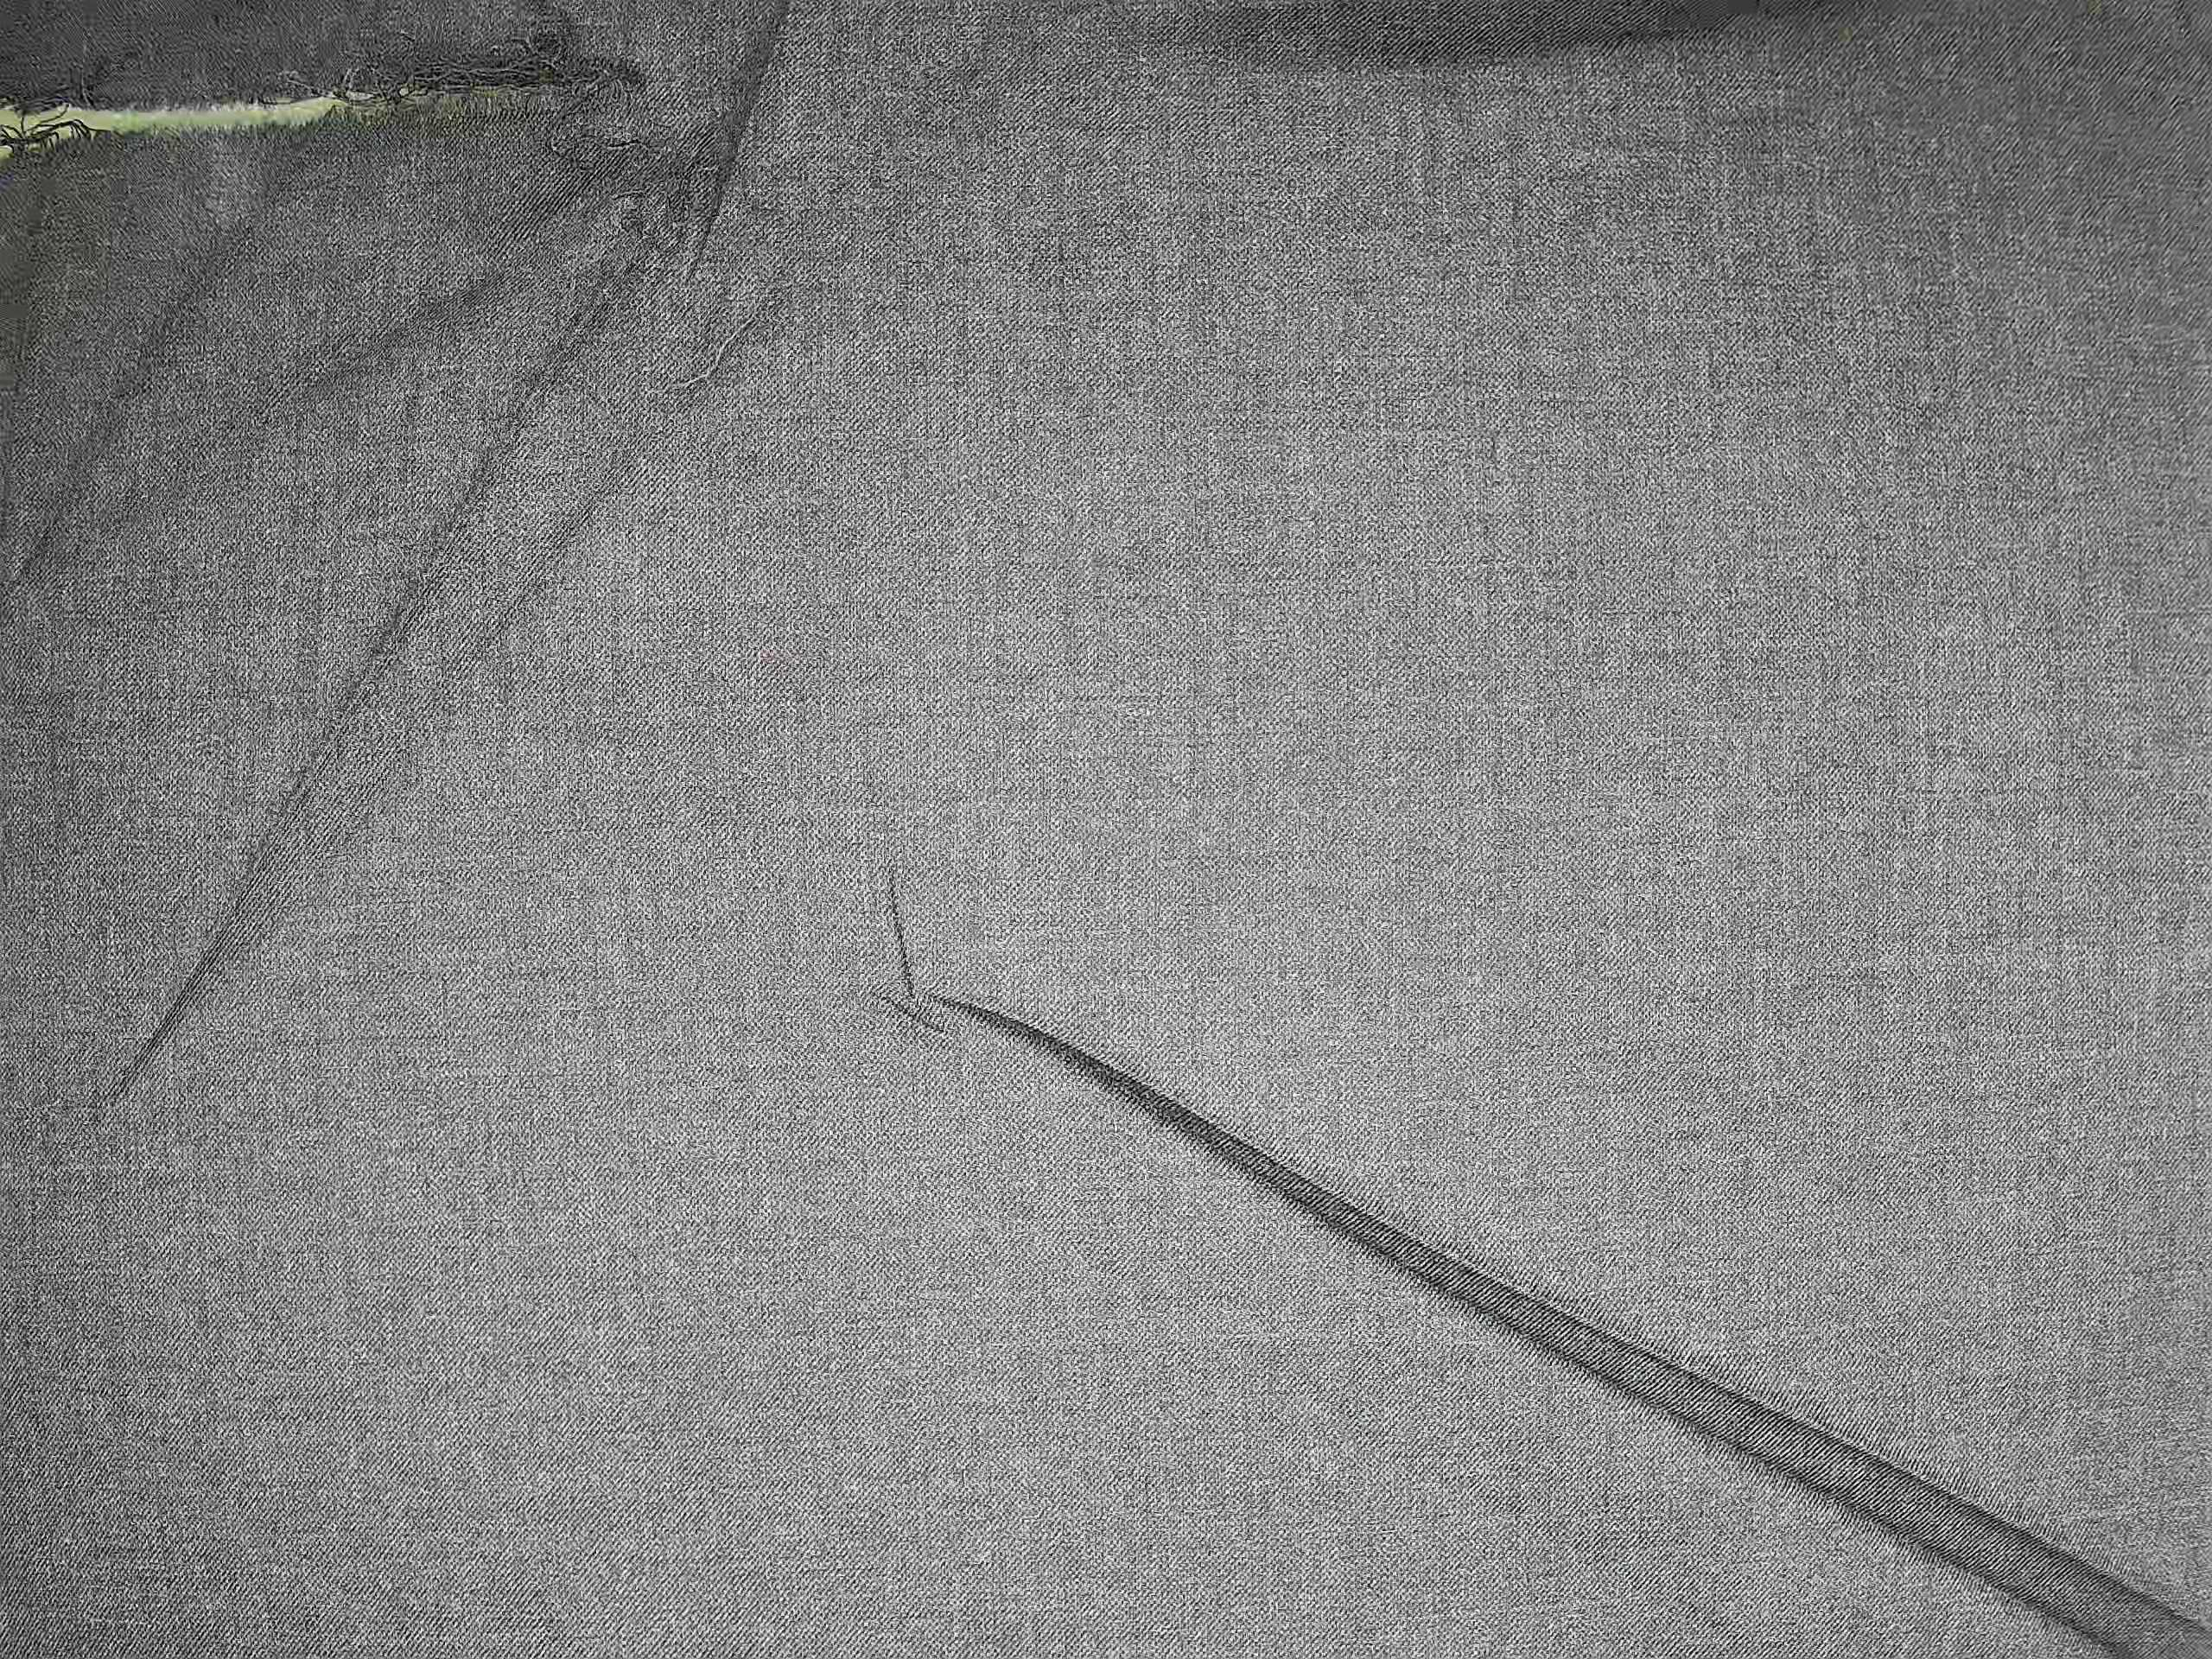puncture-hole: (0, 33, 667, 183)
